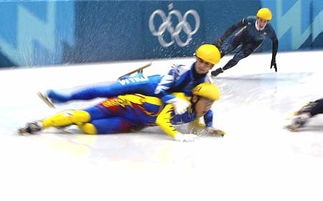falling: (35, 36, 221, 104)
